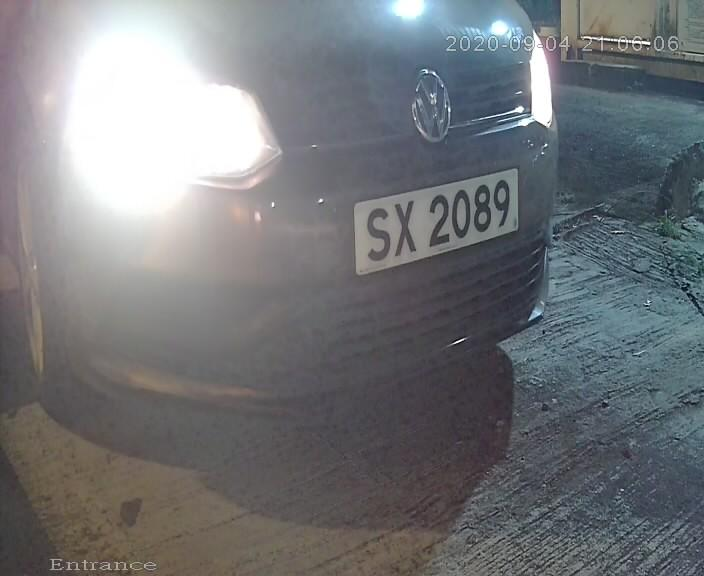License Plate: (331, 147, 538, 285)
